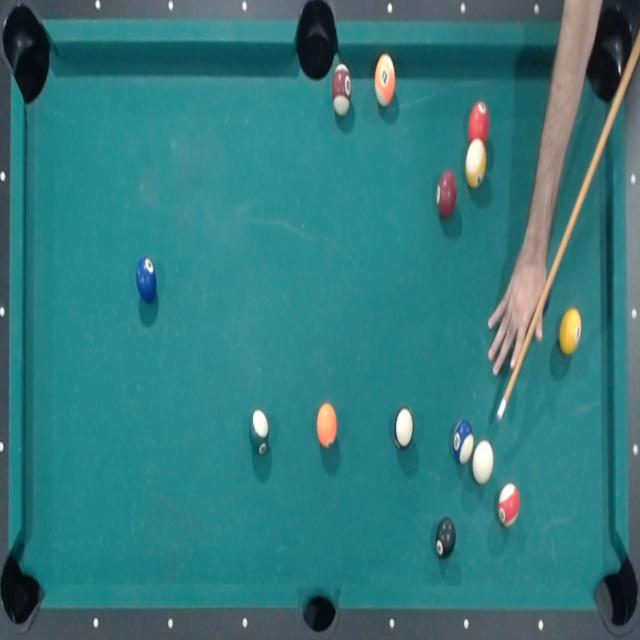black_8ball: (434, 517, 457, 558)
blue_solid: (135, 257, 160, 302)
blue_stripe: (451, 416, 476, 466)
cue_ball: (471, 440, 496, 485)
cue_body: (501, 24, 640, 394)
cue_tip: (496, 399, 506, 421)
green_stripe: (249, 406, 272, 458)
maroon_solid: (436, 172, 458, 218)
orange_solid: (316, 400, 338, 449)
orange_stripe: (373, 53, 399, 105)
player_hand: (483, 252, 549, 379)
purple_solid: (394, 404, 416, 450)
purple_stripe: (468, 102, 491, 146)
red_solid: (498, 481, 521, 526)
red_stripe: (558, 308, 582, 356)
yellow_solid: (465, 137, 487, 193)
